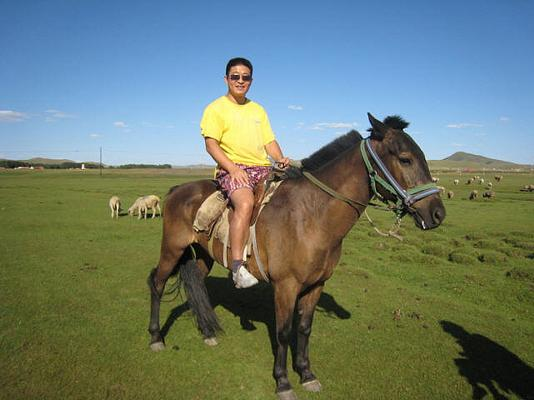person: (200, 58, 293, 290)
